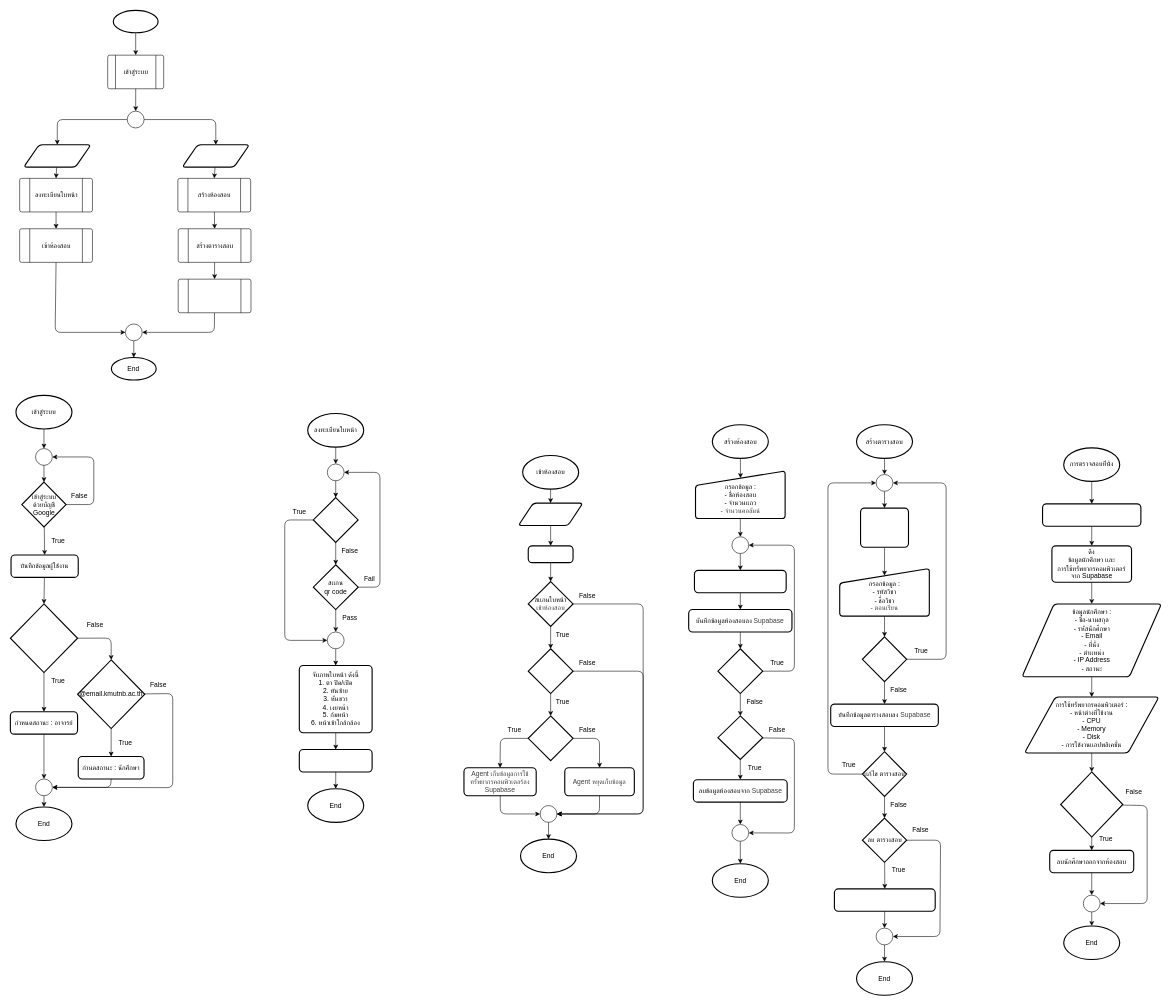
The diagram is 1172 pixels wide and 1005 high, and some of its shapes have lost their labels. Here are the shapes that lost their labels. From the top down, the centre of each, then its label:
point 135,21: Start
point 57,155: นักศึกษา
point 215,155: อาจารย์
point 214,296: ตรวจสอบที่นั่ง
point 335,520: ตรวจสอบ Webcam
point 550,514: รายการห้องสอบ
point 884,527: เลือก : - ห้องสอบ - วันที่สอบ - เวลาสอบ
point 1091,515: เลือกตำเเหน่งที่นั่งของนักศึกษา
point 550,554: เลือกห้องสอบ
point 740,581: กำหนด IP Address ให้กับที่นั่ง
point 44,638: @itm.kmutnb.ac.th
point 550,671: ตรวจสอบ IP Address
point 740,671: เเก้ไข IP Address
point 884,659: เวลาชนกัน
point 550,738: เริ่มสอบ
point 740,737: ลบ ห้องสอบ
point 335,760: บันทึกภาพใบหน้าลง Supabase
point 1091,804: ลบ นักศึกษา ออกจากห้องสอบ
point 884,900: ลบข้อมูลตารางสอบจาก Supabase
